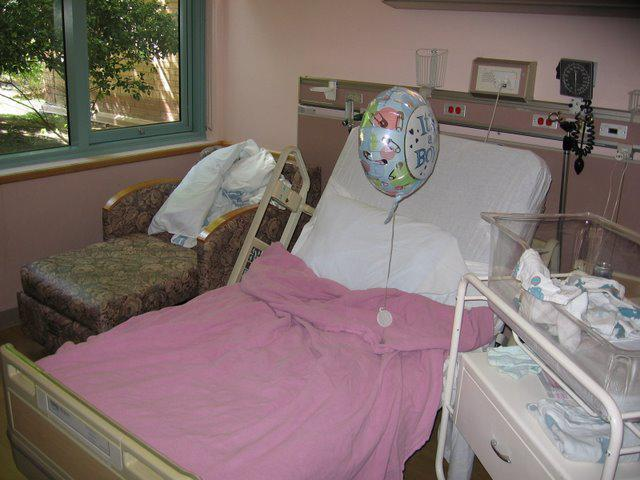Cama: (12, 160, 553, 469)
Ventana: (3, 2, 210, 157)
